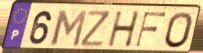6: (28, 9, 53, 46)
F: (134, 11, 168, 49)
H: (106, 10, 141, 49)
M: (50, 9, 89, 49)
O: (163, 11, 194, 50)
Z: (79, 9, 112, 48)
